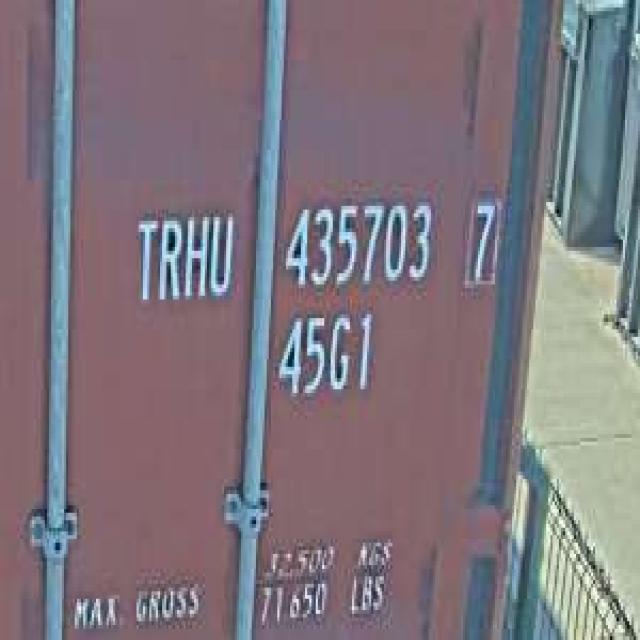dv: (461, 187, 503, 296)
owner: (130, 202, 237, 311)
serial: (278, 187, 436, 296)
size: (273, 303, 376, 408)
